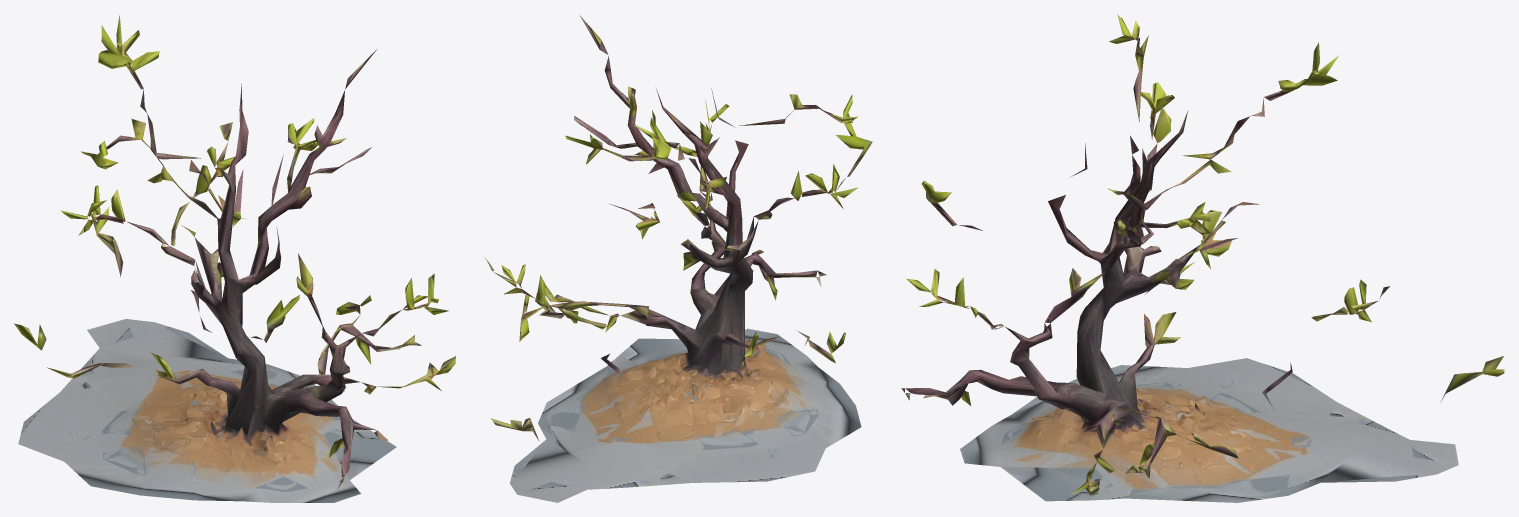
File: dry-shrub.glb
The picture shows the model from 3 angles, left to right: view 1: azimuth 30°, elevation 25°; view 2: azimuth 150°, elevation 25°; view 3: azimuth 270°, elevation 25°; orthographic projection. The views are drawn at different scales.
Size of the model in its own units: 1.29 by 1.21 by 1.71.
Materials: 1 (1 with a texture image).
